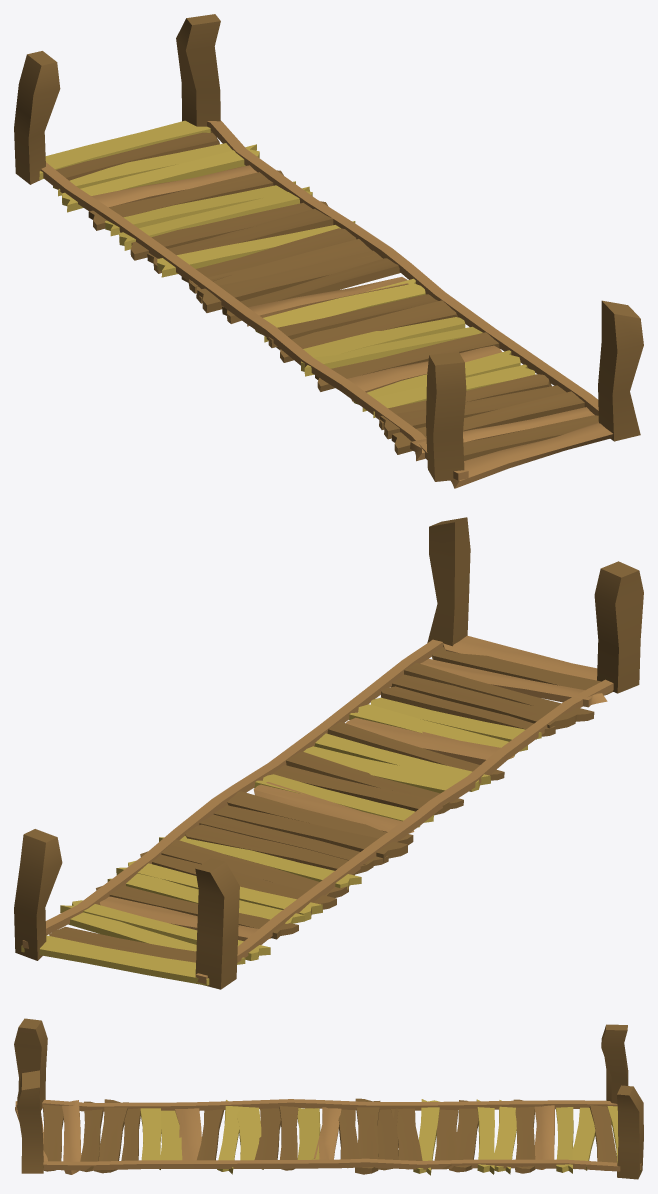
The model's file is Bridge.fbx.
3 views of the same model, one above another, from view 1: azimuth 30°, elevation 25°; view 2: azimuth 150°, elevation 25°; view 3: azimuth 270°, elevation 25° (orthographic). The views are drawn at different scales.
Parts seen in each view (by area): view 1: polySurface6, polySurface4, polySurface2; view 2: polySurface6, polySurface4, polySurface2; view 3: polySurface6, polySurface4, polySurface2.
Part boxes in pixels (x1,y1,x2,y2): polySurface6: (39, 120, 613, 488); polySurface4: (426, 300, 643, 481); polySurface2: (14, 14, 220, 184); polySurface6: (21, 635, 613, 985); polySurface4: (427, 517, 643, 693); polySurface2: (14, 829, 239, 989); polySurface6: (15, 1098, 641, 1175); polySurface4: (14, 1018, 47, 1173); polySurface2: (601, 1024, 643, 1179).
Size of the model in its own units: 6.57 by 4.19 by 24.13.
